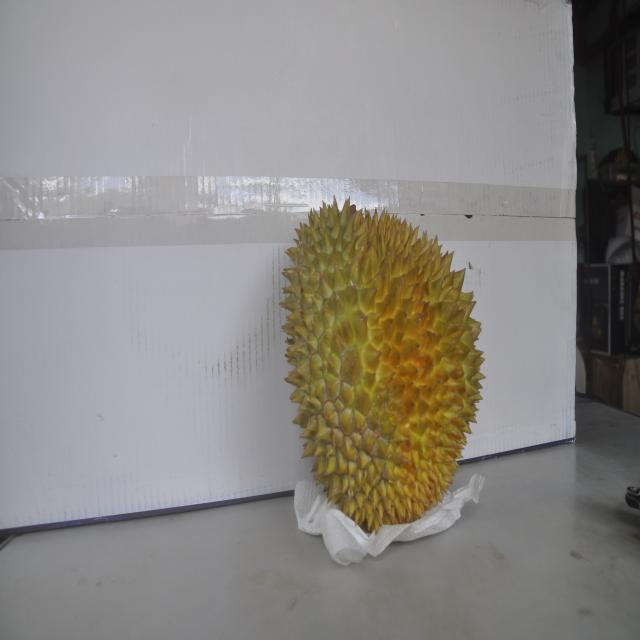mature: (286, 191, 477, 531)
